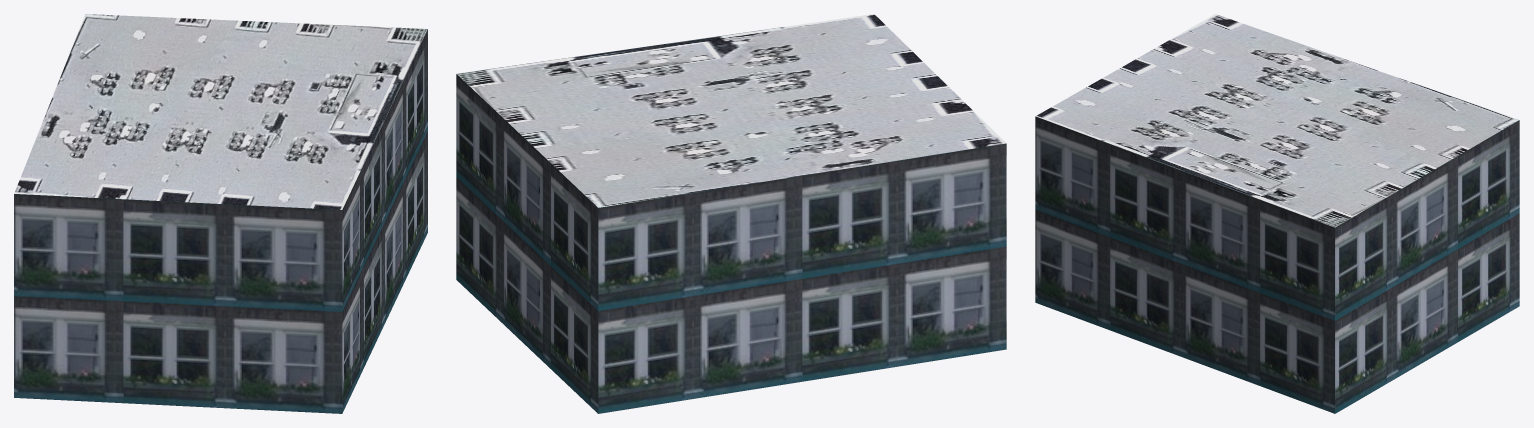
The model's file is ResTex__268.fbx.
3 renders of one model, left to right at view 1: azimuth 30°, elevation 25°; view 2: azimuth 150°, elevation 25°; view 3: azimuth 270°, elevation 25°, orthographic. The views are drawn at different scales.
Parts seen in each view (by area): view 1: CityEngineMaterial_11_m, CityEngineMaterial_4_m; view 2: CityEngineMaterial_11_m, CityEngineMaterial_4_m; view 3: CityEngineMaterial_11_m, CityEngineMaterial_4_m.
Part boxes in pixels (box(x1,y1,x2,y2)): CityEngineMaterial_11_m: box(14, 29, 427, 413); CityEngineMaterial_4_m: box(14, 14, 427, 209); CityEngineMaterial_11_m: box(456, 74, 1006, 413); CityEngineMaterial_4_m: box(456, 14, 1006, 207); CityEngineMaterial_11_m: box(1035, 116, 1519, 413); CityEngineMaterial_4_m: box(1035, 14, 1518, 227).
Bounding box in the file's own units: 14.75 × 6 × 14.13.
2 materials, 2 textured.
